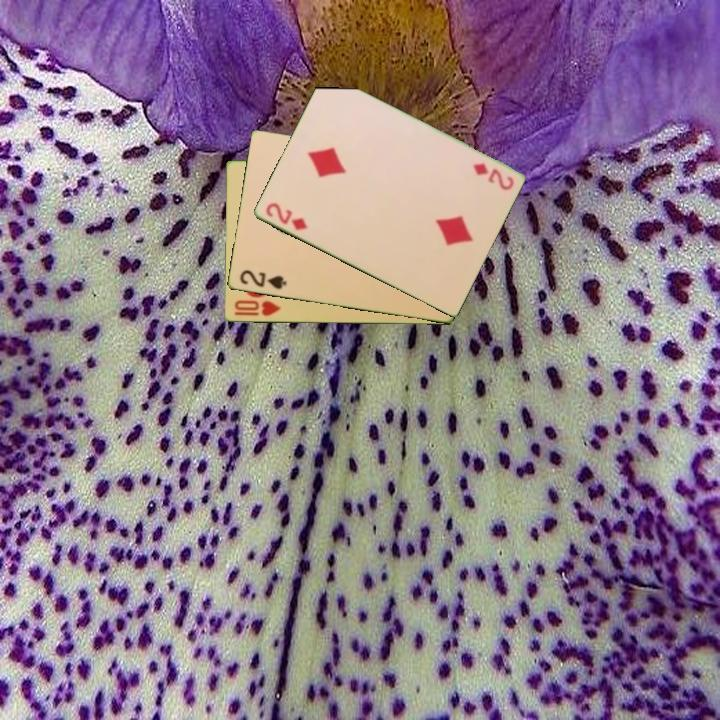10h: (231, 297, 283, 319)
2d: (262, 199, 310, 234), (469, 160, 517, 193)
2s: (236, 267, 289, 292)
